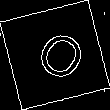O_SW: (23, 22, 87, 88)
